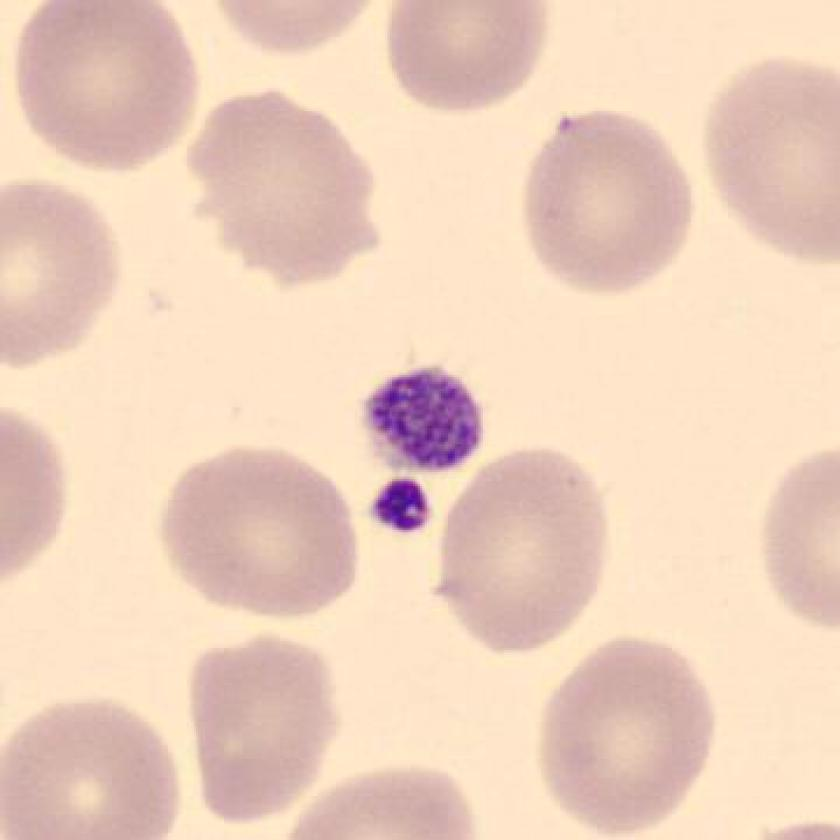platelets: (358, 358, 491, 483), (363, 462, 447, 557)
